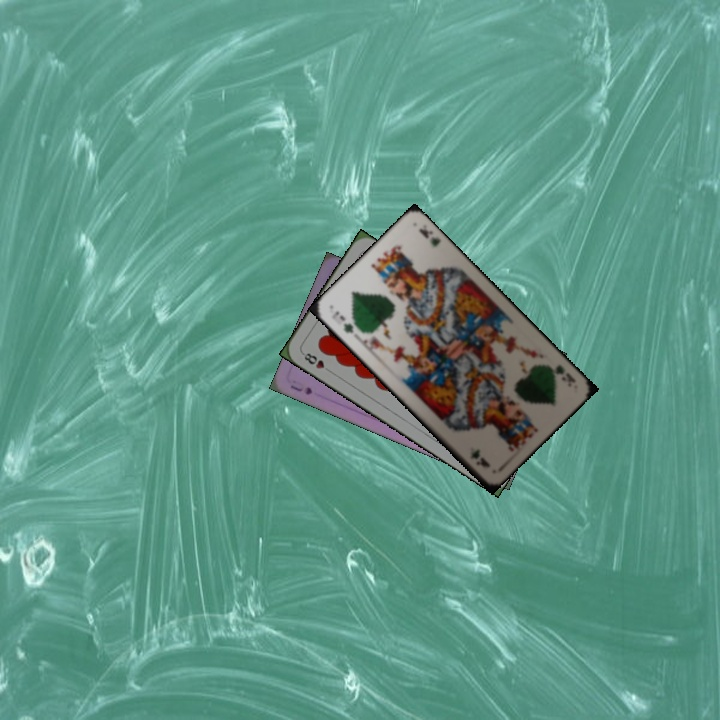GK: (327, 307, 357, 336), (550, 360, 578, 385)
H8: (298, 348, 335, 375)
SU: (286, 381, 315, 397)
